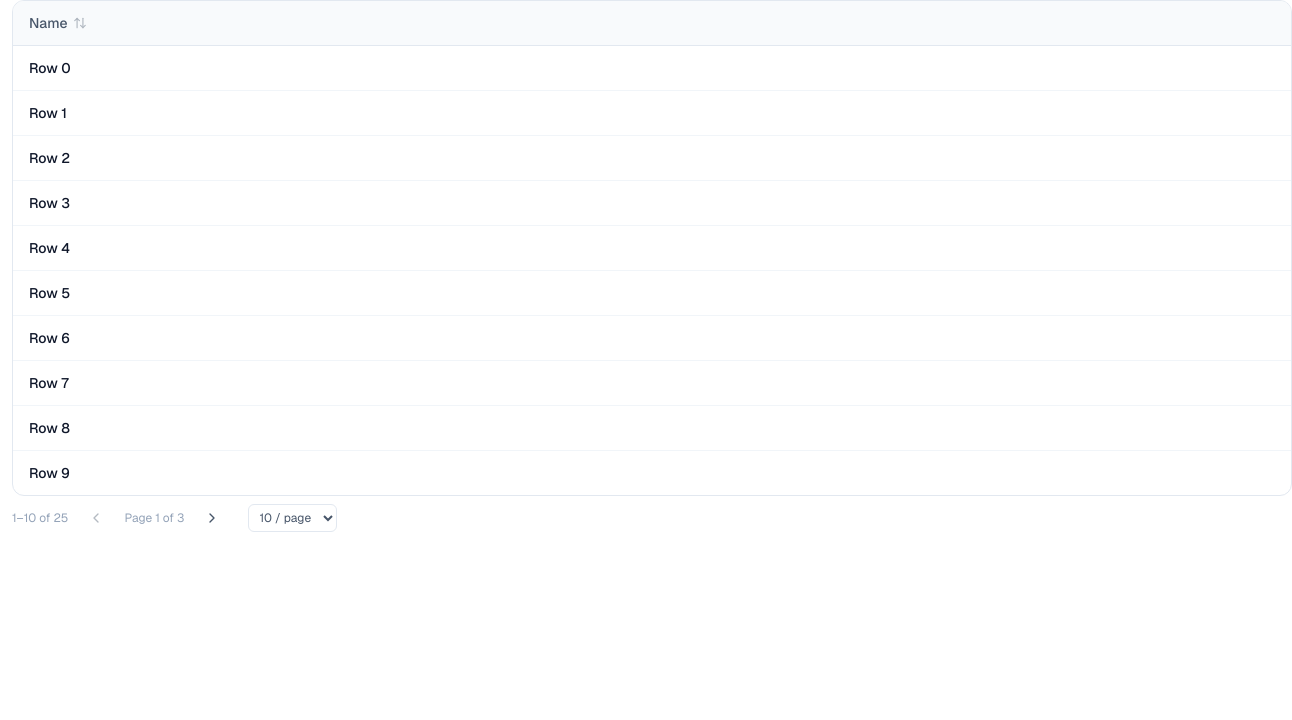
DataTable › paginates rows and reports the visible range
The image size is (1292, 720).
Expected: the text "1–10 of 25" is shown, [12,510,68,526]
Expected: the text "Page 1 of 3" is shown, [124,510,184,526]
Step 1. Click the button named "Next page" → [212, 518], box [192,504,232,532]
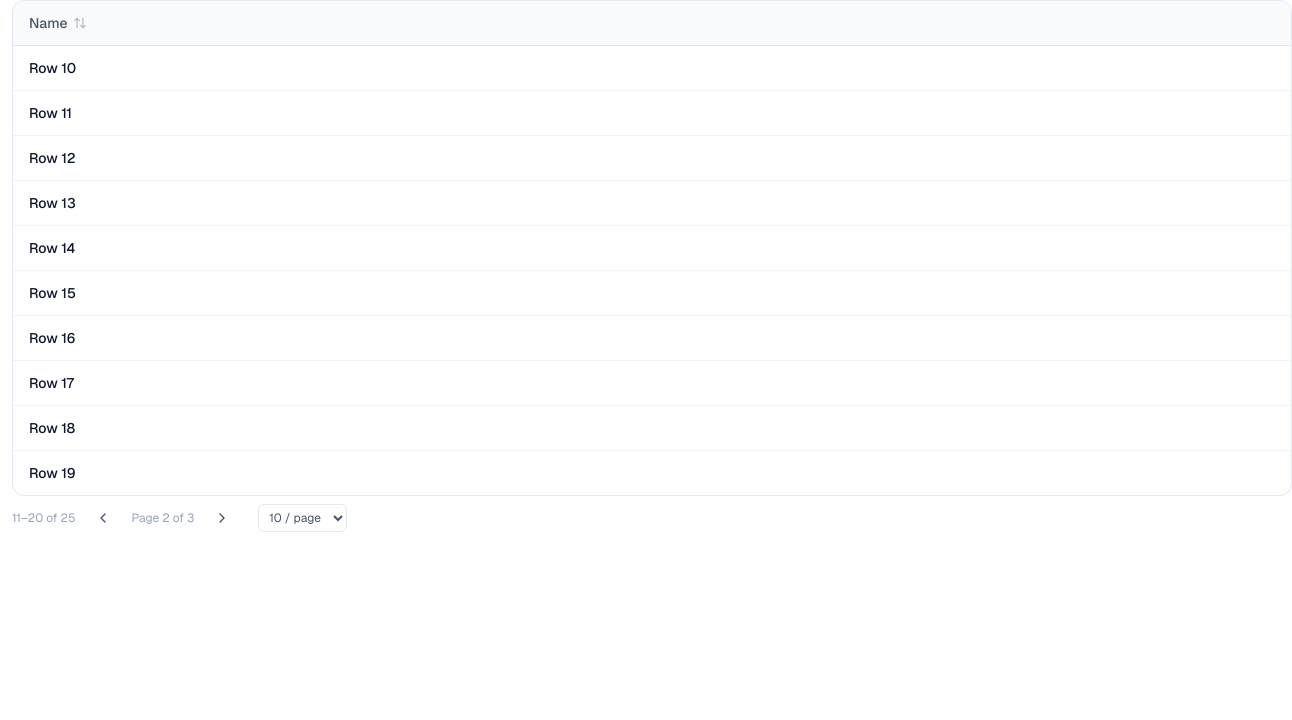
Expected: the text "11–20 of 25" is shown, [12,510,76,526]
Step 2. Click the button named "Next page" → [222, 518], box [202,504,242,532]
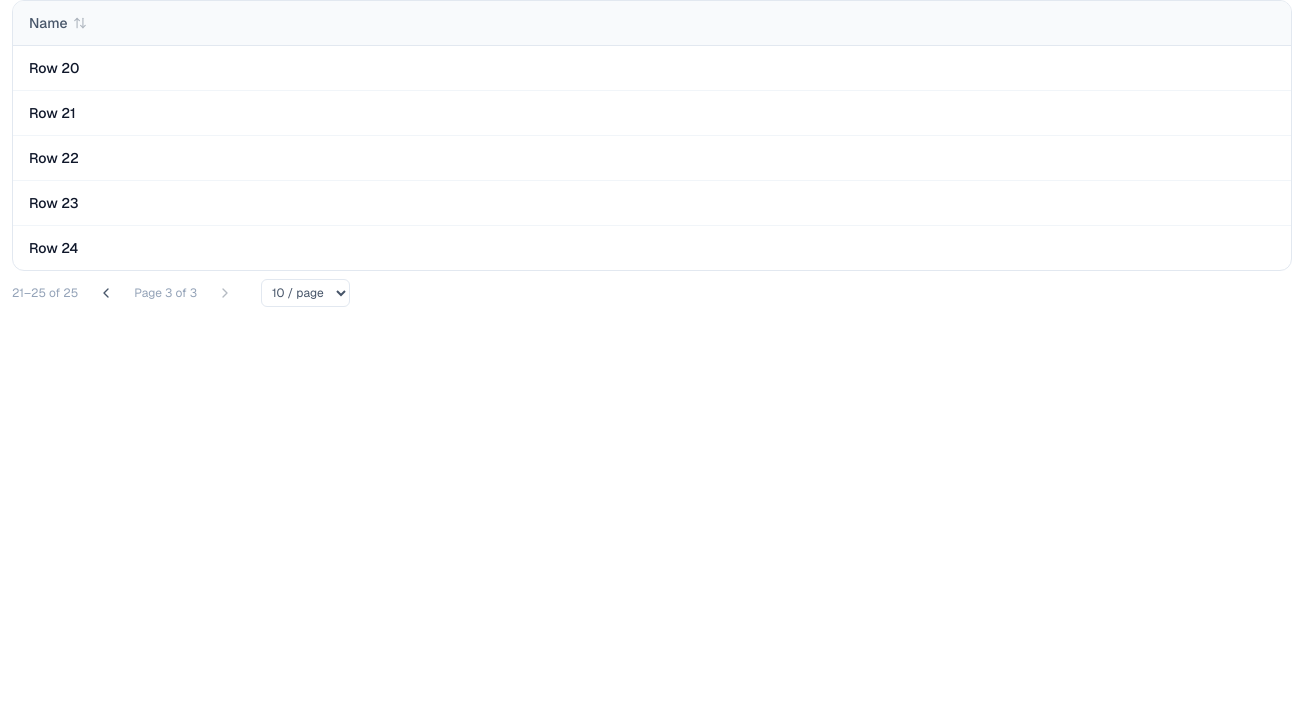
Expected: the button named "Next page" is disabled, [205,279,245,307]
Expected: the text "21–25 of 25" is shown, [12,285,78,301]
